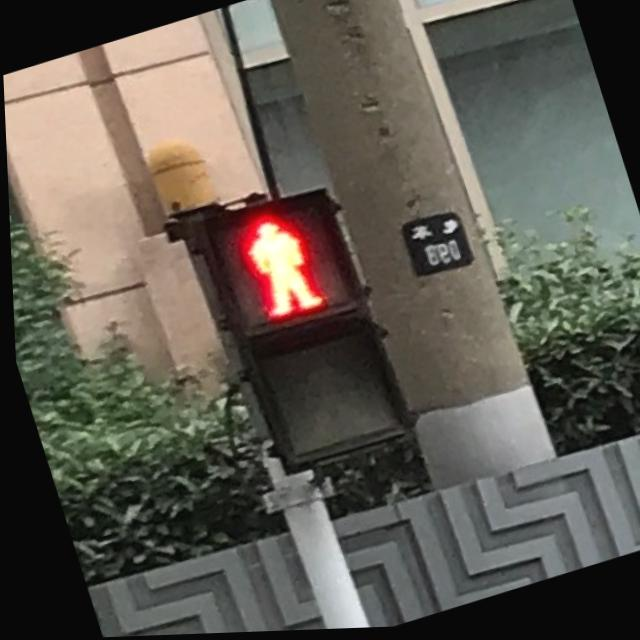red_light: (207, 188, 356, 341)
